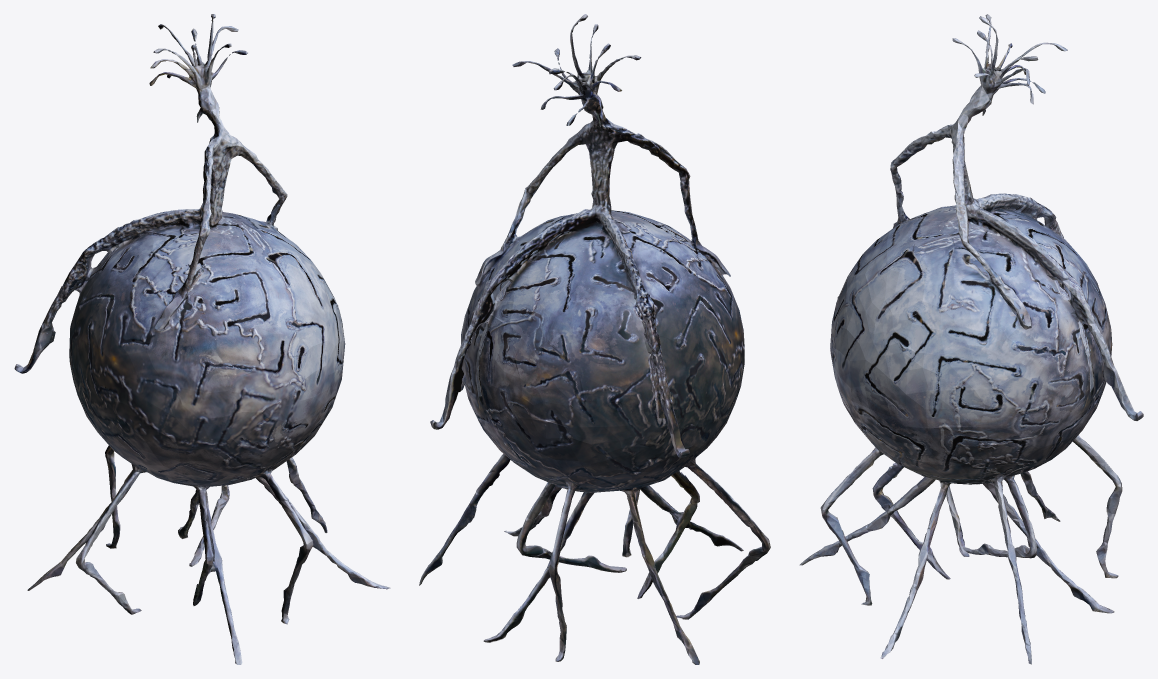
Rendered from big-sphere-man.glb.
3 views of the same model, side by side, from view 1: azimuth 30°, elevation 25°; view 2: azimuth 150°, elevation 25°; view 3: azimuth 270°, elevation 25° (orthographic). The views are drawn at different scales.
Parts seen in each view (by area): view 1: model.001; view 2: model.001; view 3: model.001.
Boxes of the visible parts, x1=… form: model.001: x1=14, y1=14, x2=390, y2=664; model.001: x1=419, y1=14, x2=770, y2=664; model.001: x1=799, y1=14, x2=1143, y2=664.
Bounding box in the file's own units: 0.4342 × 0.8017 × 0.431.
1 material, 1 textured.
